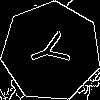Y: (26, 26, 80, 74)
